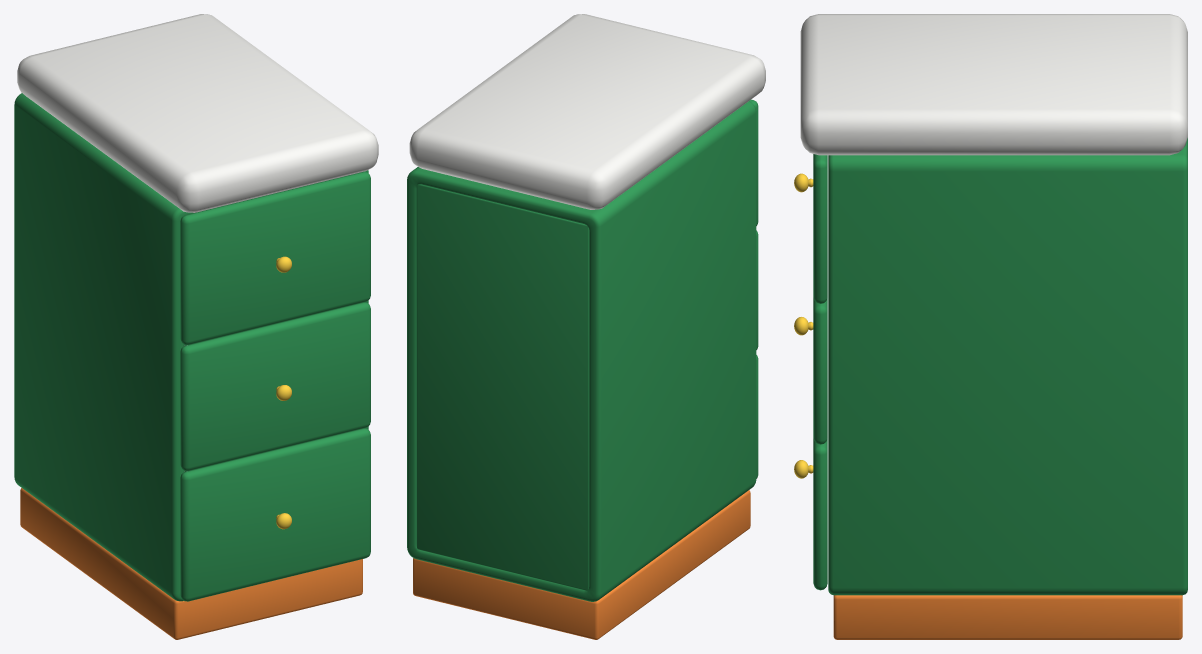
File: gaveteiro_cozinha_largo_3gavetas_verde.glb
3 views of the same model, side by side, from view 1: azimuth 30°, elevation 25°; view 2: azimuth 150°, elevation 25°; view 3: azimuth 270°, elevation 25° (orthographic). The views are drawn at different scales.
Visible parts, largest first — view 1: gaveteiro_cozinha_largo_3gavetas_verde, gaveta_1, gaveta_3, gaveta_2; view 2: gaveteiro_cozinha_largo_3gavetas_verde; view 3: gaveteiro_cozinha_largo_3gavetas_verde, gaveta_1, gaveta_3, gaveta_2.
Part boxes in pixels (x1,y1,x2,y2): gaveteiro_cozinha_largo_3gavetas_verde: [14, 14, 378, 639]; gaveta_1: [180, 172, 370, 344]; gaveta_3: [180, 428, 370, 601]; gaveta_2: [180, 302, 370, 470]; gaveteiro_cozinha_largo_3gavetas_verde: [407, 14, 765, 639]; gaveteiro_cozinha_largo_3gavetas_verde: [800, 14, 1187, 639]; gaveta_1: [794, 154, 827, 303]; gaveta_3: [794, 438, 827, 590]; gaveta_2: [794, 297, 827, 444].
Bounding box in the file's own units: 0.398 × 0.9 × 0.609.
1 material, 1 textured.
